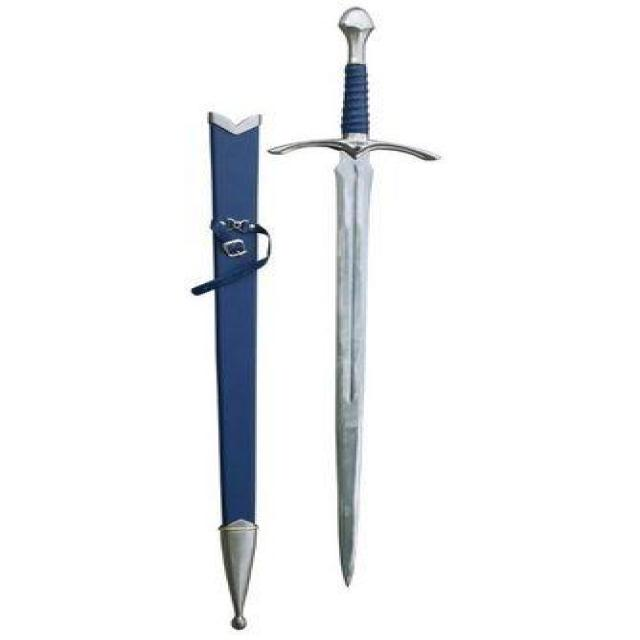weapon: (264, 2, 452, 588)
